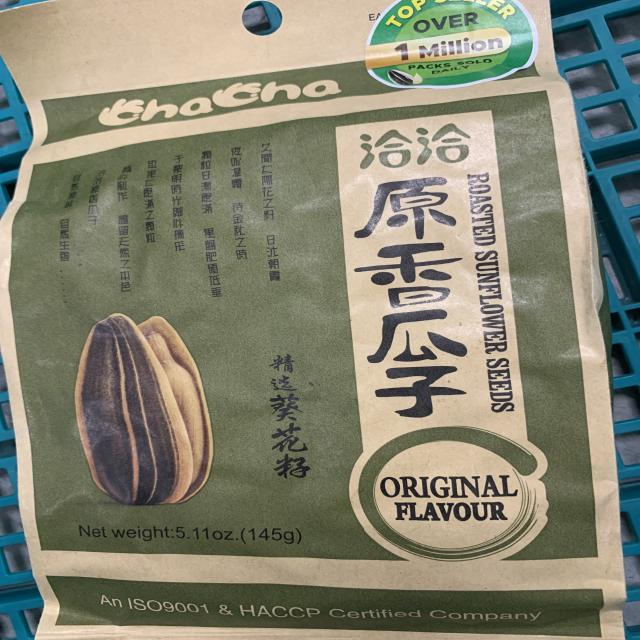object_name: (2, 3, 593, 640)
